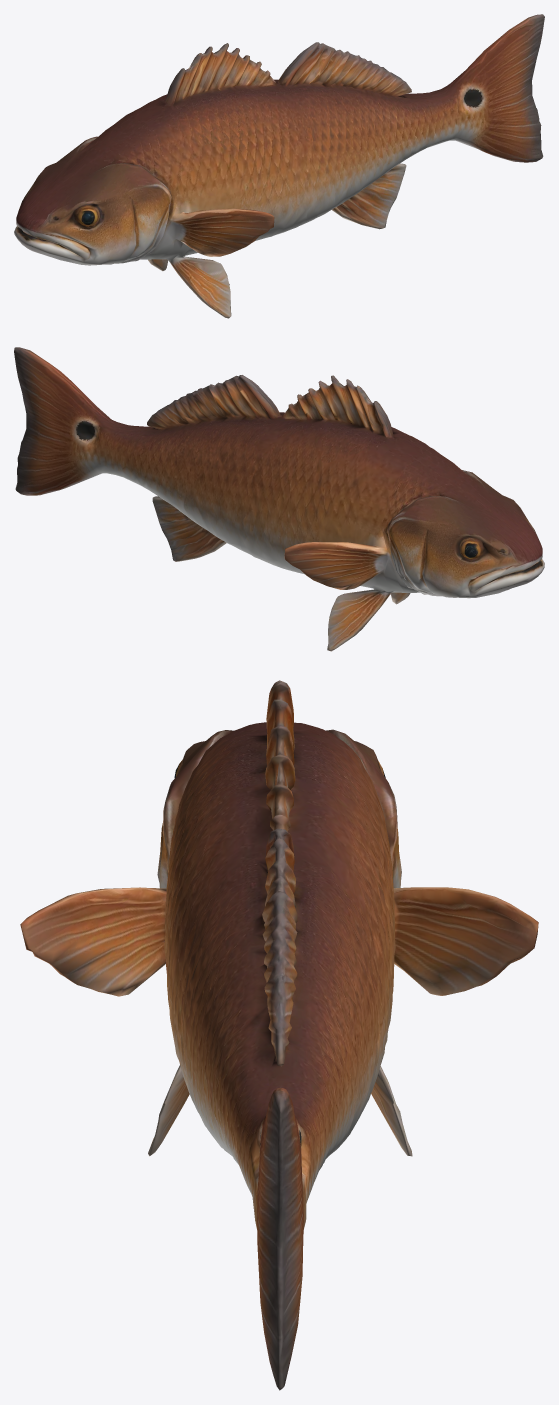
Rendered from fish-gorbyl.glb.
3 views of the same model, one above another, from view 1: azimuth 30°, elevation 25°; view 2: azimuth 150°, elevation 25°; view 3: azimuth 270°, elevation 25° (orthographic). The views are drawn at different scales.
Parts seen in each view (by area): view 1: tripo_node_a49c1ff9-cb25-4c85-87a3-dca91c78bf15; view 2: tripo_node_a49c1ff9-cb25-4c85-87a3-dca91c78bf15; view 3: tripo_node_a49c1ff9-cb25-4c85-87a3-dca91c78bf15.
Boxes of the visible parts, left/top/right/bottom form: tripo_node_a49c1ff9-cb25-4c85-87a3-dca91c78bf15: left=14, top=14, right=544, bottom=318; tripo_node_a49c1ff9-cb25-4c85-87a3-dca91c78bf15: left=14, top=347, right=544, bottom=651; tripo_node_a49c1ff9-cb25-4c85-87a3-dca91c78bf15: left=20, top=680, right=538, bottom=1390.
Bounding box in the file's own units: 0.999 × 0.4448 × 0.427.
1 material, 1 textured.
